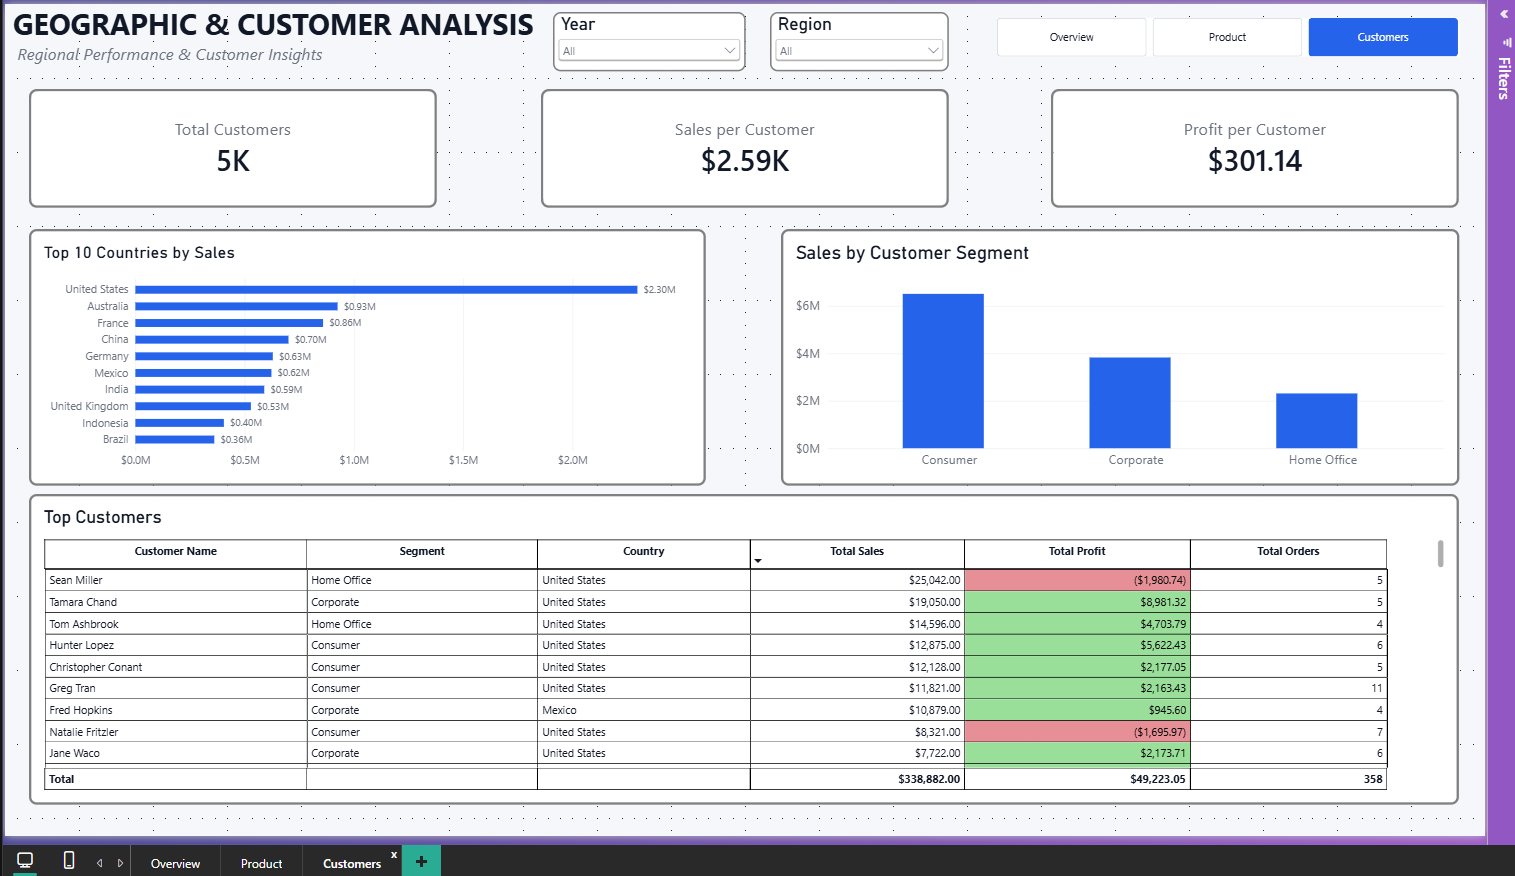

The page's visual inventory and layout, read from the dashboard file:
{"tool":"powerbi","page":{"name":"Customers","canvas":[1920,1080],"ordinal":2},"visuals":[{"type":"textbox","box":[10.4,0,682.4,86.9],"z":0},{"type":"cardVisual","fields":{"Data":["Global Superstore.Total Customers"]},"box":[31.1,110.3,529.3,154.4],"z":1},{"type":"cardVisual","fields":{"Data":["Global Superstore.Sales per Customer"]},"box":[695.4,110.3,529.3,154.4],"z":2},{"type":"cardVisual","fields":{"Data":["Global Superstore.Profit per Customer"]},"box":[1357,110.3,529.3,154.4],"z":3},{"type":"clusteredBarChart","title":"Top 10 Countries by Sales","fields":{"Category":["Global Superstore.Country"],"Y":["Global Superstore.Total Sales"]},"box":[31.1,291.9,878.3,333.4],"z":4},{"type":"clusteredColumnChart","title":"Sales by Customer Segment","fields":{"Category":["Global Superstore.Segment"],"Y":["Global Superstore.Total Sales"]},"box":[1006.7,291.9,879.6,333.4],"z":5},{"type":"tableEx","title":"Top Customers","fields":{"Values":["Global Superstore.Customer Name","Global Superstore.Segment","Global Superstore.Country","Global Superstore.Total Sales","Global Superstore.Total Profit","Global Superstore.Total Orders"]},"box":[31.1,635.7,1855.1,403.5],"z":6},{"type":"slicer","fields":{"Values":["Global Superstore.Year"]},"box":[710.4,10.3,249.6,76.8],"z":7},{"type":"slicer","fields":{"Values":["Global Superstore.Region"]},"box":[992.5,10.3,231.9,76.8],"z":8},{"type":"pageNavigator","box":[1286.4,17.7,600,50],"z":9}]}

Visuals, with their boxes on the page's 1920x1080 design canvas (x1, y1, x2, y2). These are canvas units, not pixel positions in the 1515x876 screenshot, which may show the page scaled, cropped or inside an application window:
textbox: Rect(10, 0, 693, 87)
cardVisual - Global Superstore.Total Customers: Rect(31, 110, 560, 265)
cardVisual - Global Superstore.Sales per Customer: Rect(695, 110, 1225, 265)
cardVisual - Global Superstore.Profit per Customer: Rect(1357, 110, 1886, 265)
"Top 10 Countries by Sales" clusteredBarChart: Rect(31, 292, 909, 625)
"Sales by Customer Segment" clusteredColumnChart: Rect(1007, 292, 1886, 625)
"Top Customers" tableEx: Rect(31, 636, 1886, 1039)
slicer - Global Superstore.Year: Rect(710, 10, 960, 87)
slicer - Global Superstore.Region: Rect(992, 10, 1224, 87)
pageNavigator: Rect(1286, 18, 1886, 68)
